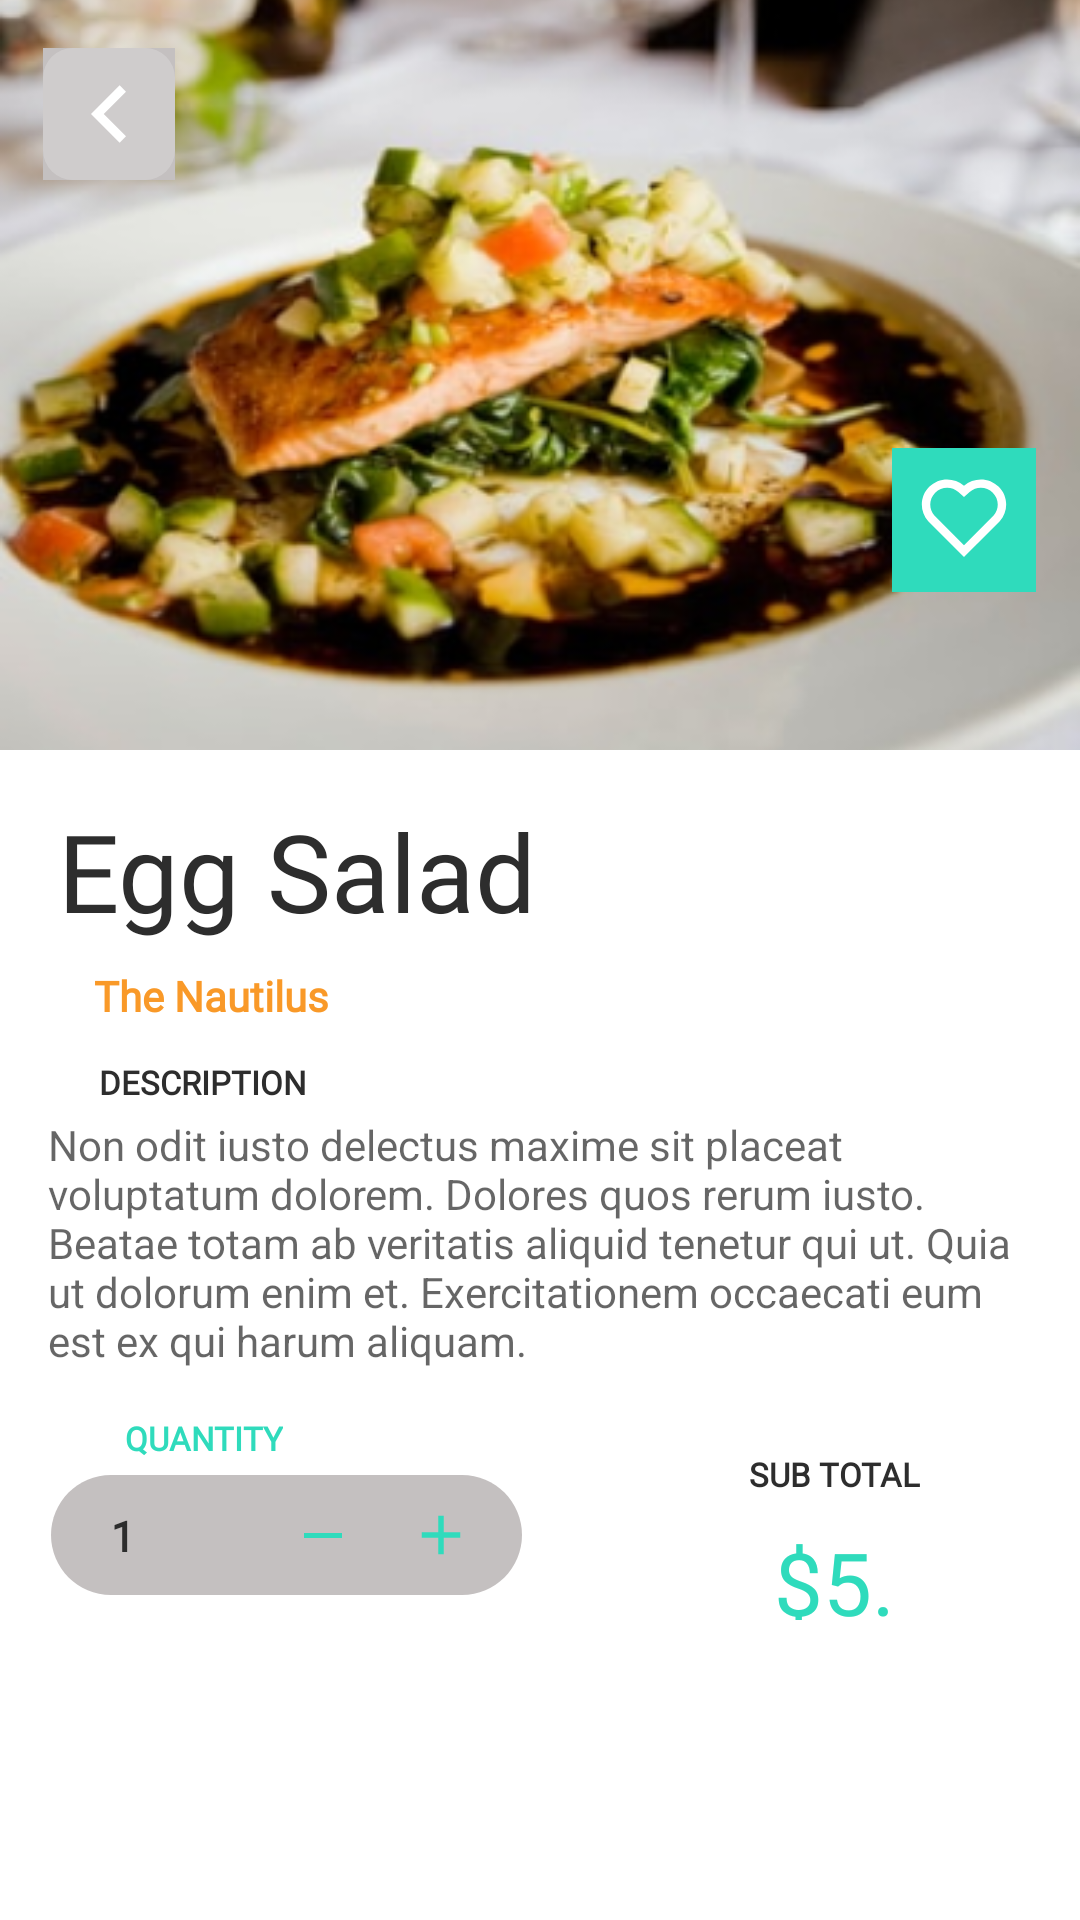

Named icons in this screenshot (1080x1920) and their centers, point (x, y):
back: point (109, 114)
likes: point (964, 520)
plus: point (441, 1535)
